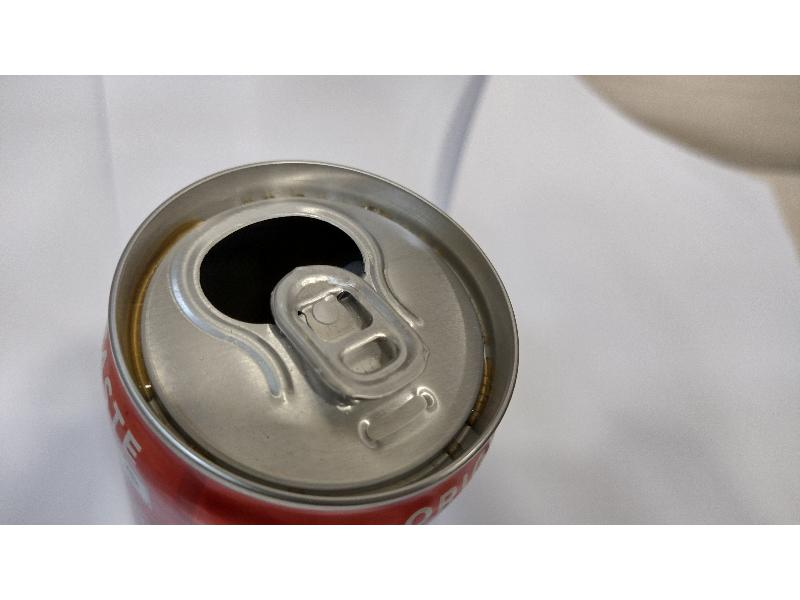can: (90, 153, 526, 523)
